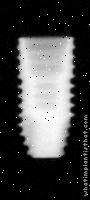Osstem Implant: (18, 36, 75, 160)
